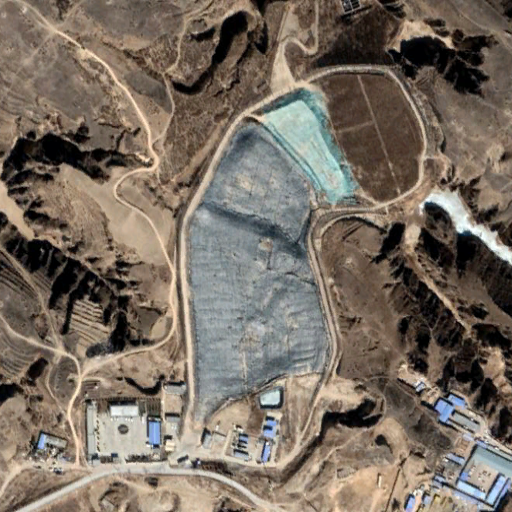lf: (186, 117, 336, 415)
